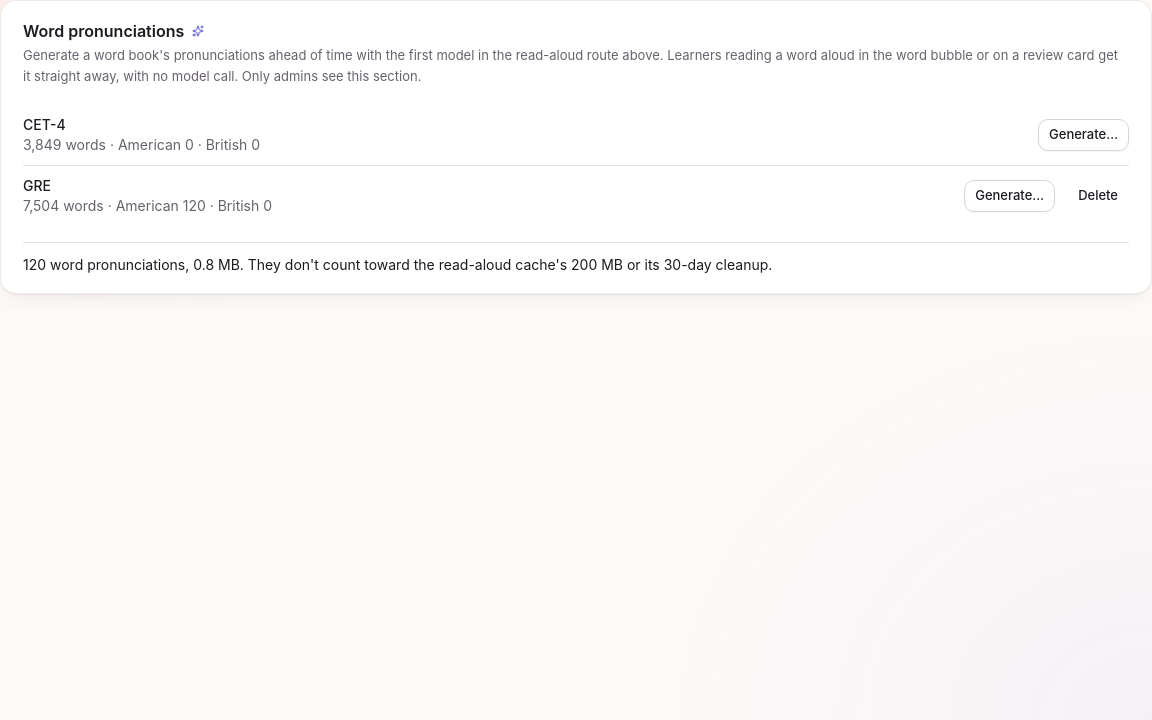
Scenario: WordAudioSection › times a slow model by its seconds a word, not the pace
The width and height of the screenshot is (1152, 720).
Click the button with aria-label "Generate pronunciations for CET-4".
click(1084, 135)  # box [1038,119,1129,151]
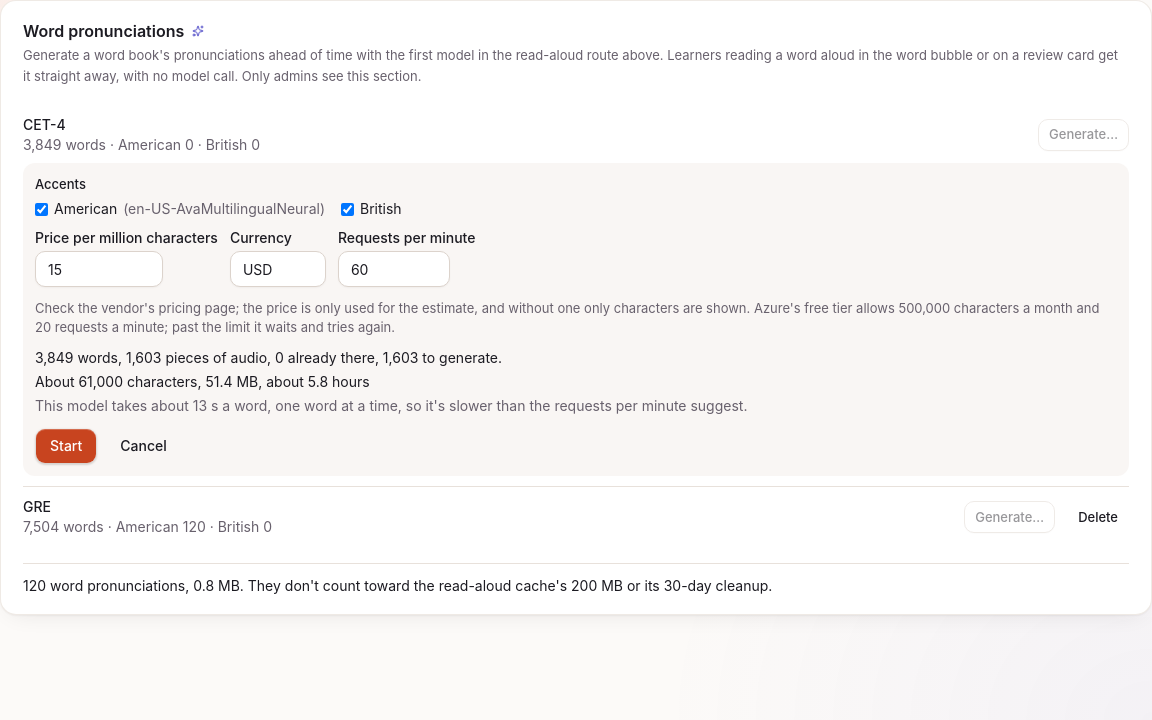
Result: the text "About 61,000 characters, 51.4 MB, about 5.8 hours" is shown at [35,373,370,390]
Result: the text "takes about 13 s a word" is shown at [35,397,748,414]
